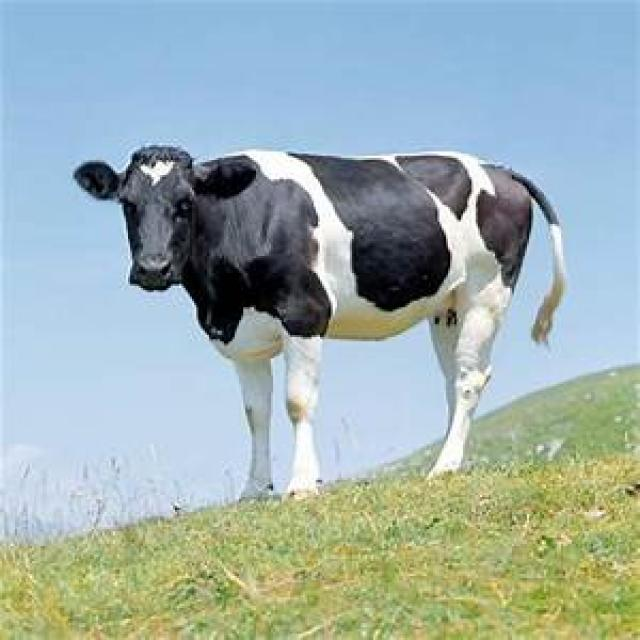cow: (70, 145, 567, 501)
